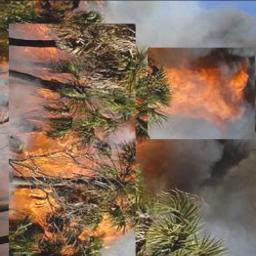Heavy smoke: (132, 0, 256, 256)
Small fire: (21, 3, 133, 256), (145, 52, 247, 144)
